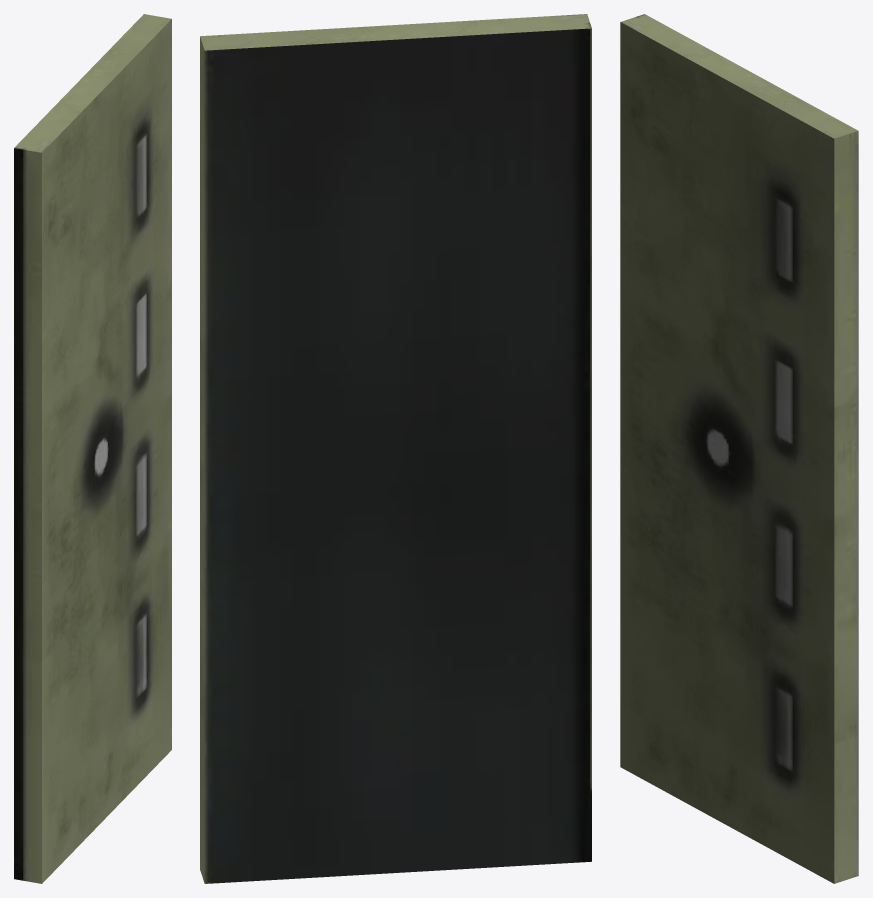
File: body__sloped_panel.glb
3 renders of one model, left to right at view 1: azimuth 30°, elevation 25°; view 2: azimuth 150°, elevation 25°; view 3: azimuth 270°, elevation 25°, orthographic. The views are drawn at different scales.
Parts seen in each view (by area): view 1: geometry_0; view 2: geometry_0; view 3: geometry_0.
Boxes of the visible parts, bbox=[...] form: geometry_0: bbox=[14, 14, 171, 883]; geometry_0: bbox=[200, 14, 591, 883]; geometry_0: bbox=[620, 14, 858, 883].
Bounding box in the file's own units: 0.1149 × 0.32 × 0.0927.
Materials: 1 (1 with a texture image).
